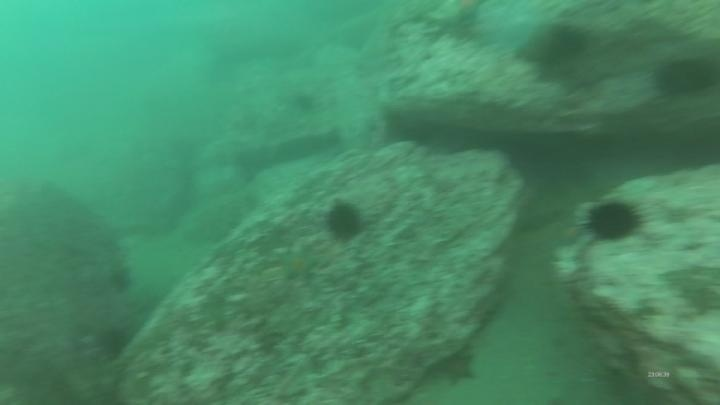echinus: (531, 21, 592, 75), (651, 53, 718, 101), (582, 196, 647, 245), (323, 198, 366, 244), (93, 324, 133, 361), (290, 89, 319, 116)
starfish: (435, 346, 480, 389), (276, 245, 321, 284), (551, 219, 590, 251)
